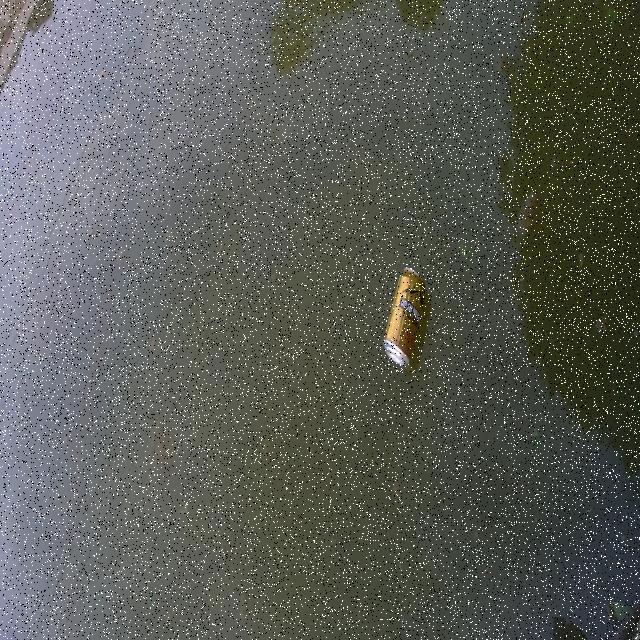Can: (381, 261, 428, 370)
